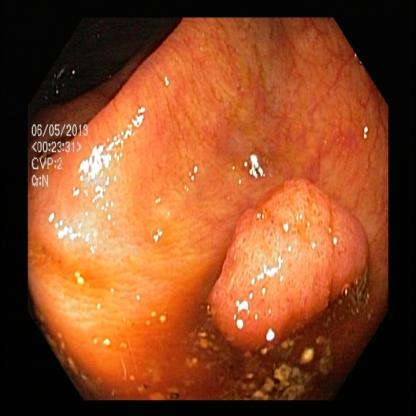Labels: (28, 116, 97, 193)
Polyps: (203, 195, 370, 342)
